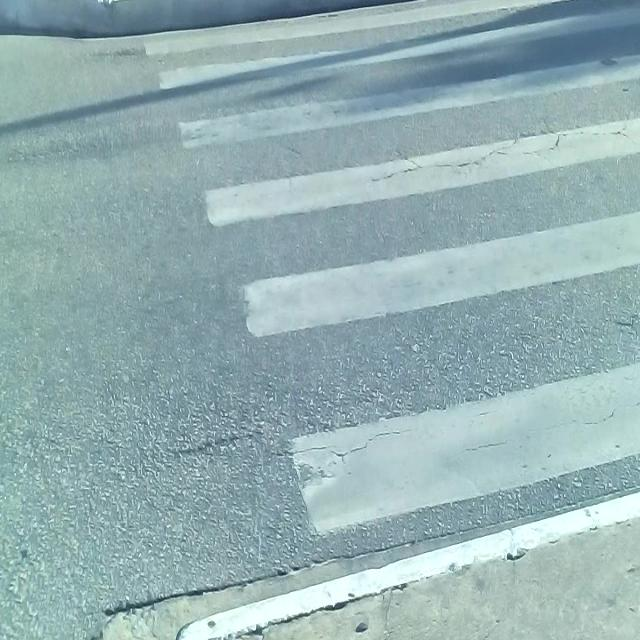crosswalk: (132, 0, 640, 581)
